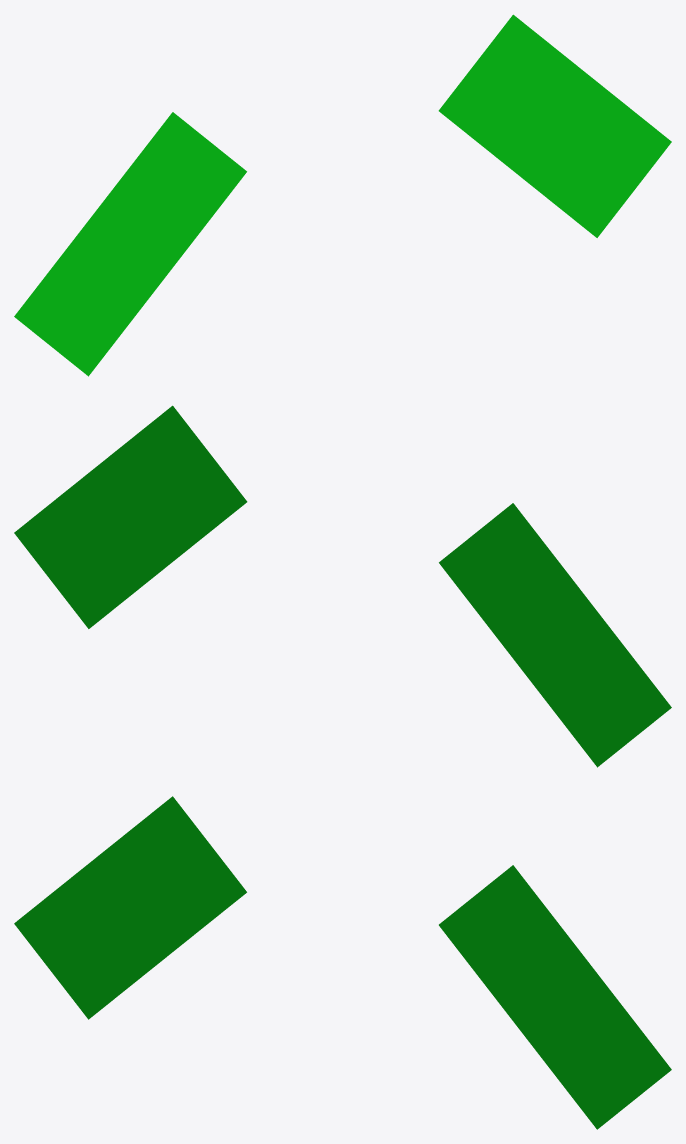
File: image6-2.glb
3 renders of one model, top to bottom at view 1: azimuth 30°, elevation 25°; view 2: azimuth 150°, elevation 25°; view 3: azimuth 330°, elevation 25°, orthographic.
Visible parts, largest first — view 1: InterstellarPoster.014; view 2: InterstellarPoster.014; view 3: InterstellarPoster.014.
Boxes of the visible parts, x1,y1,x2,y2 form: InterstellarPoster.014: [14, 14, 671, 376]; InterstellarPoster.014: [14, 405, 671, 767]; InterstellarPoster.014: [14, 796, 671, 1129].
Size of the model in its own units: 0.2463 by 0.0924 by 0.
